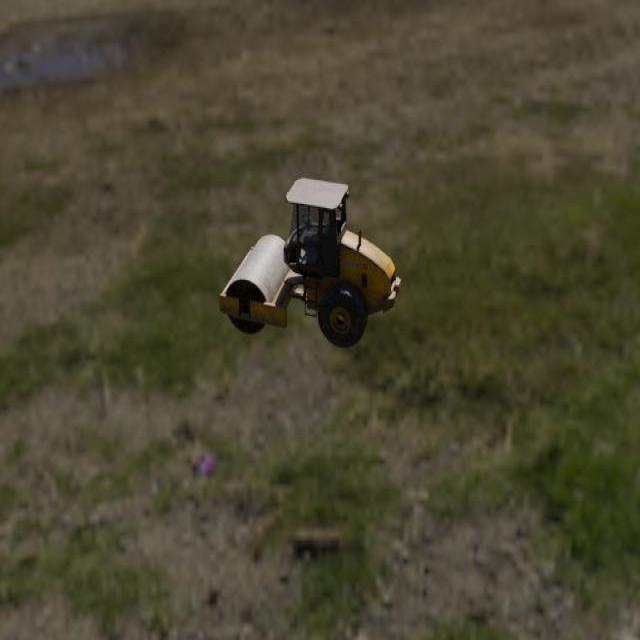Roller: (218, 177, 401, 348)
